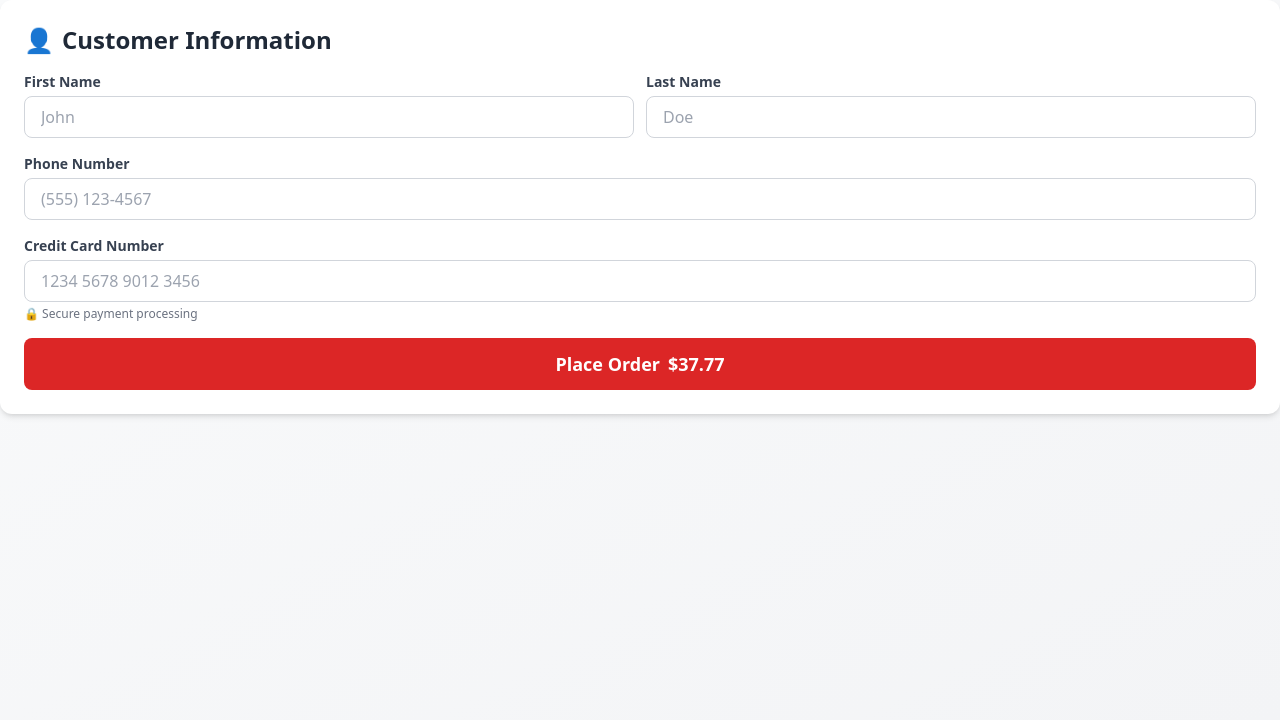
Test case: OrderForm Component › Form Validation - Failure Cases › should show error for empty last name
This screenshot has width=1280, height=720.
Blur on last name field when empty to trigger validation
Click the field labelled "Last Name": (951,117) [646,96,1256,138]
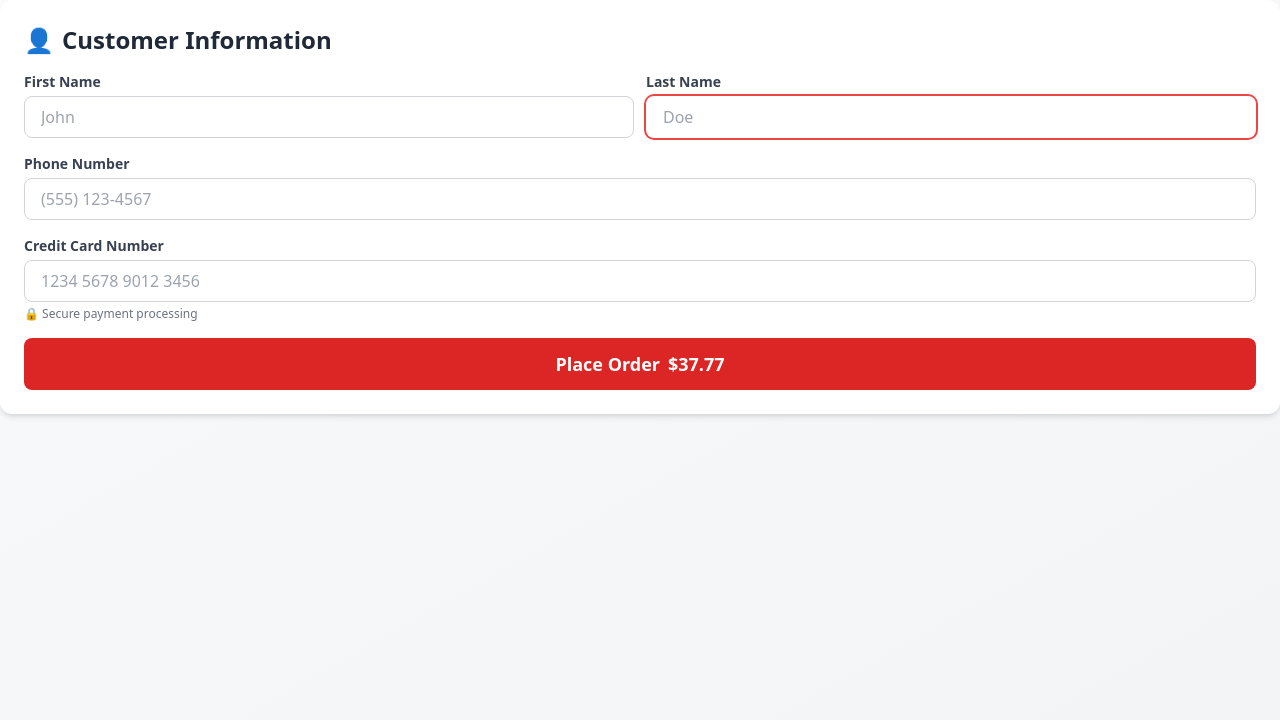
Press Tab
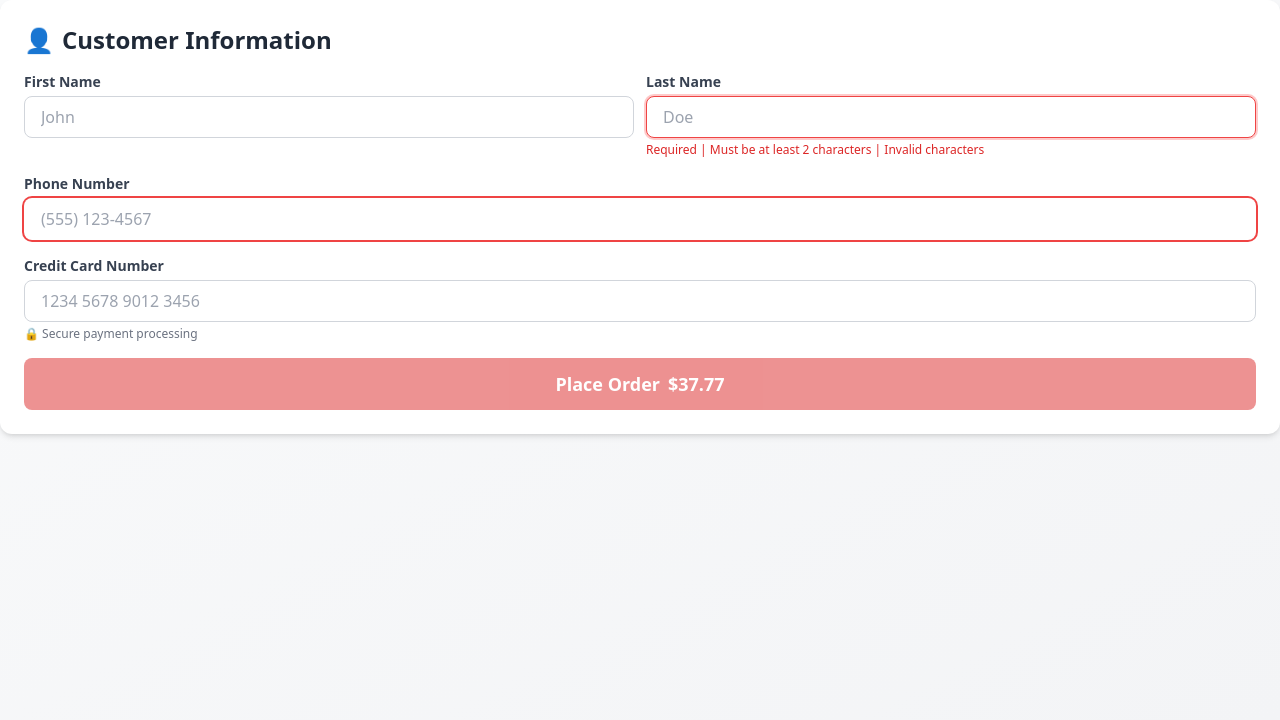
Check: the text "Required" is shown, box [646,141,984,158]
